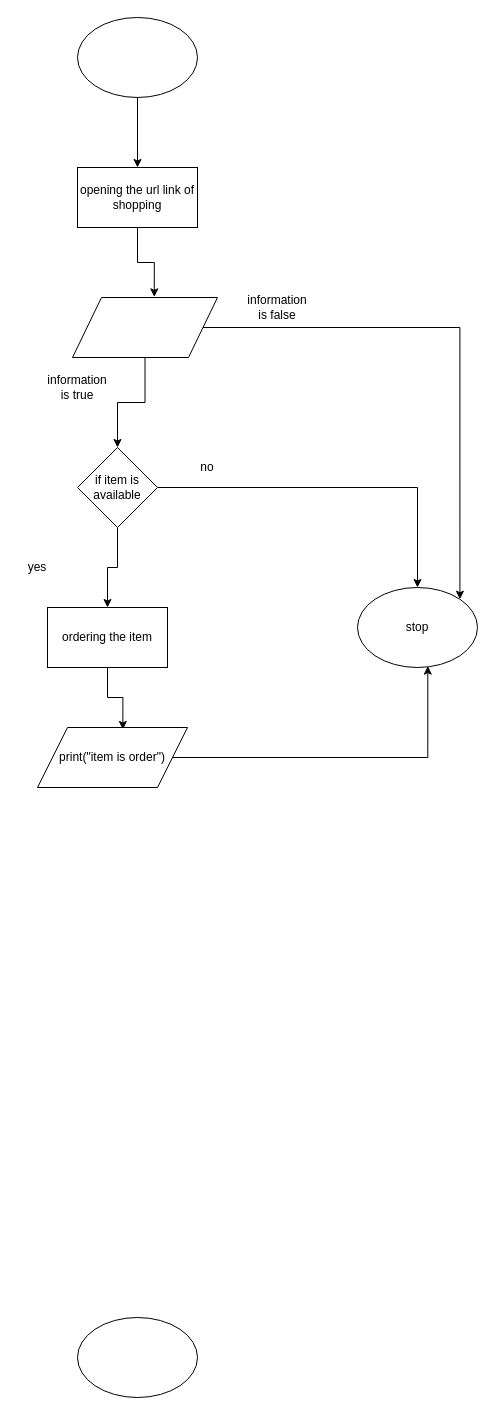
This 495x1415 diagram has some shape labels left out. The shapes that lost their labels are listed below. From the top down, each one's box as (x1, y1, x2, y2) in pixels, then its label:
(76, 16, 198, 98): start
(72, 296, 218, 358): accept the name accept the email accept phone _no accept address
